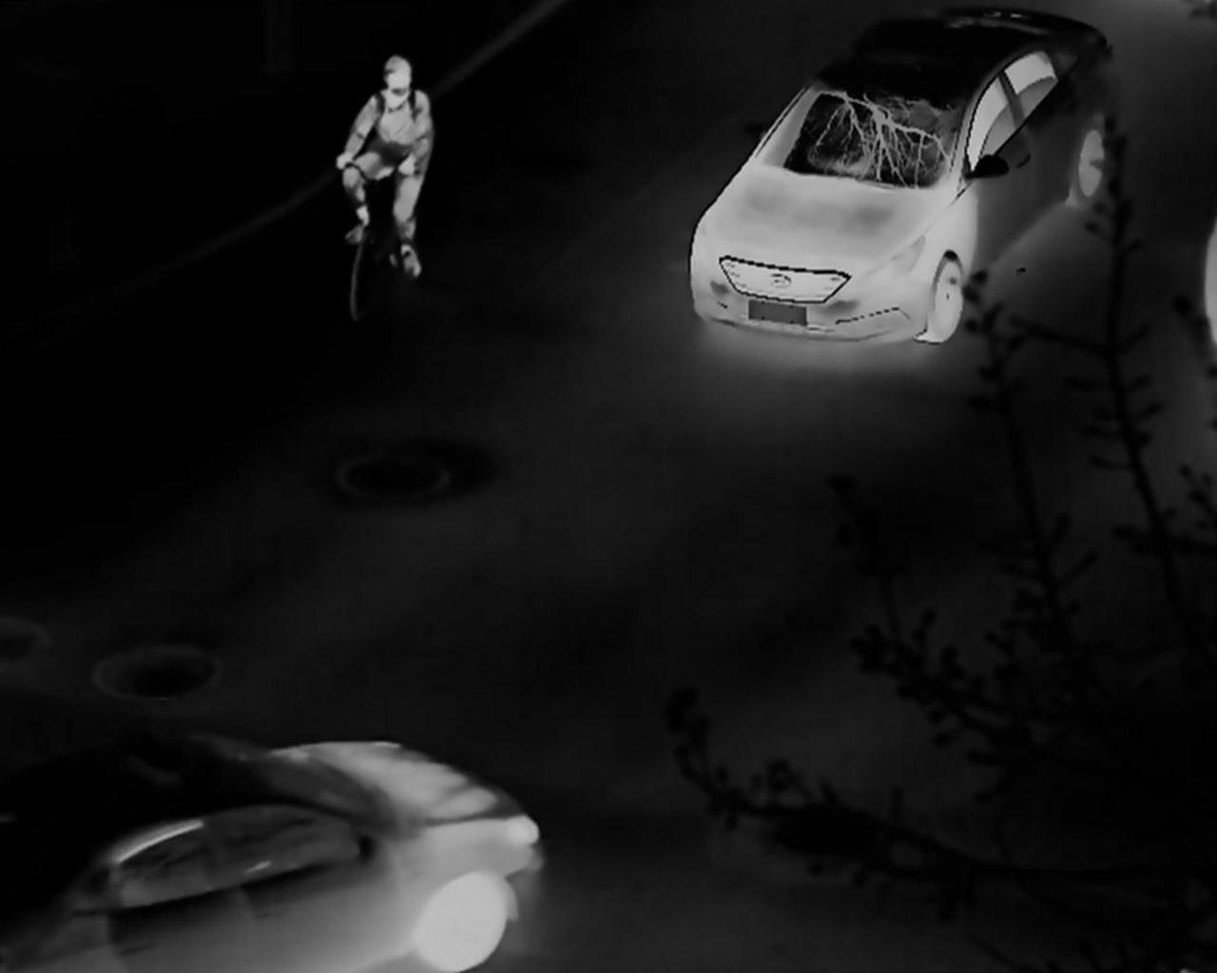person: (337, 54, 432, 279)
